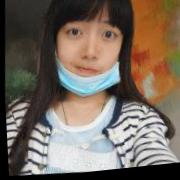WRONG: (53, 4, 125, 98)
